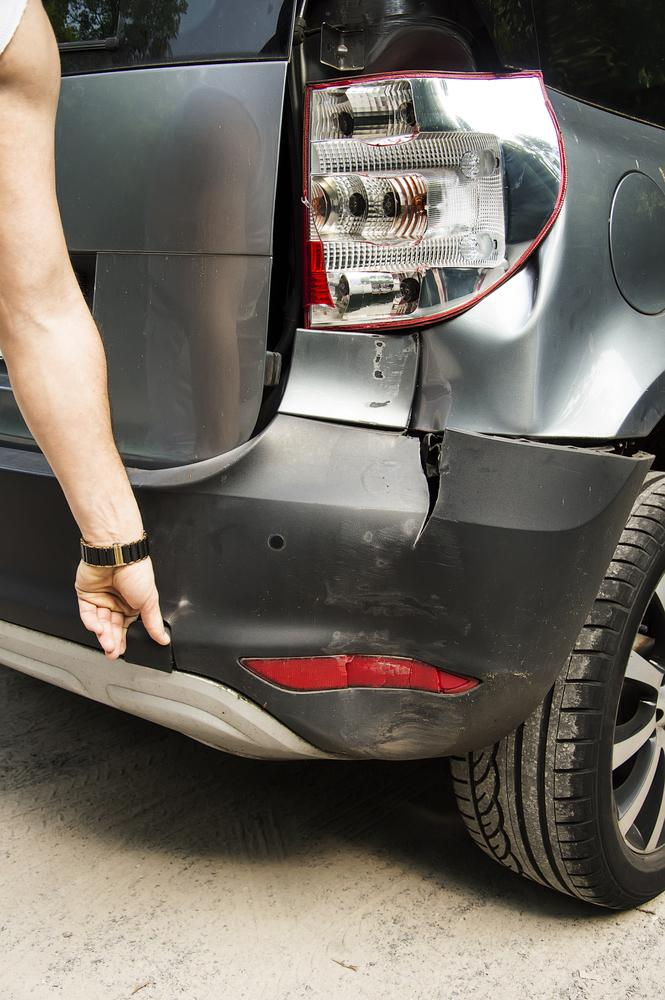crack: (411, 430, 449, 550)
dent: (333, 517, 473, 754), (462, 226, 555, 332)
lamp broken: (302, 69, 567, 335)
scratch: (367, 334, 415, 416)
